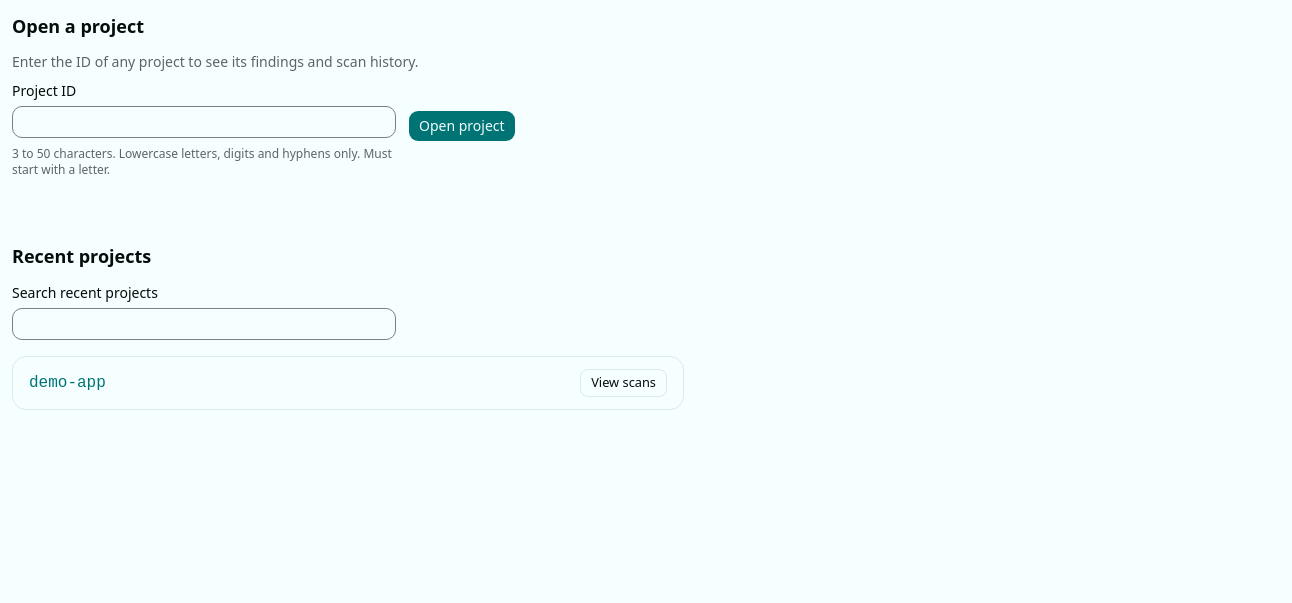
Test: ProjectsOverview: recent projects › says so when nothing matches, and clears the search in one click
Type "zzz" into the search field labelled "Search recent projects" at (204, 324), box [12,308,396,340]
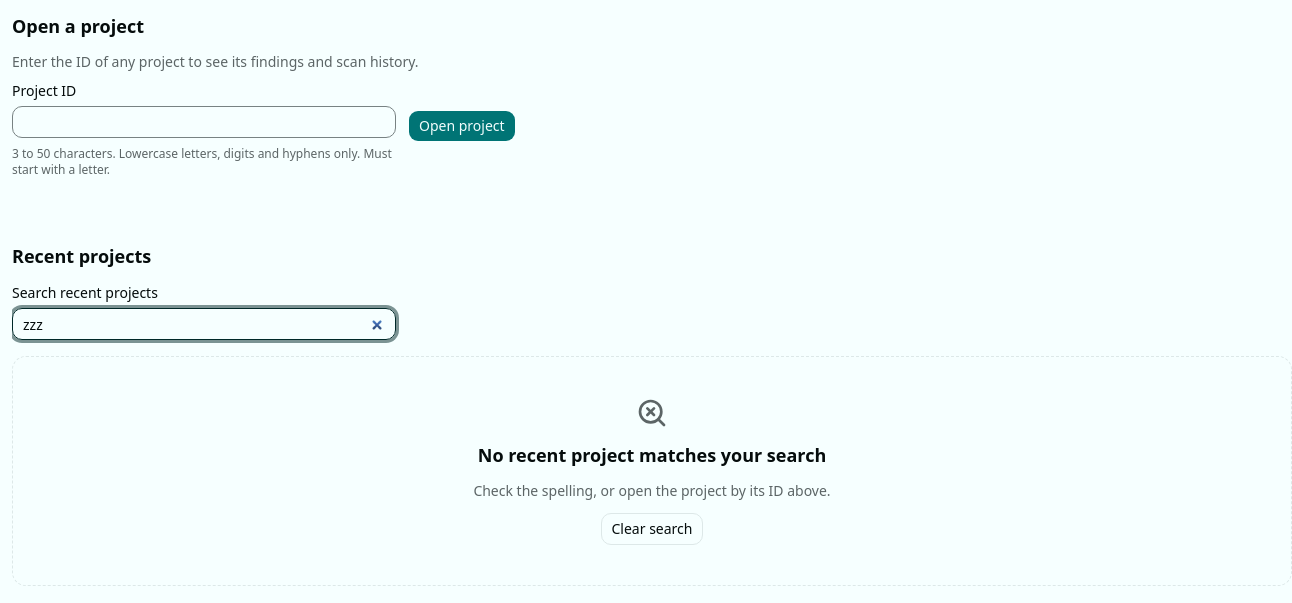
Now the heading "No recent project matches your search" is shown, box [478,441,826,469]
Click the button "Clear search" at (652, 529), box [600,513,704,545]
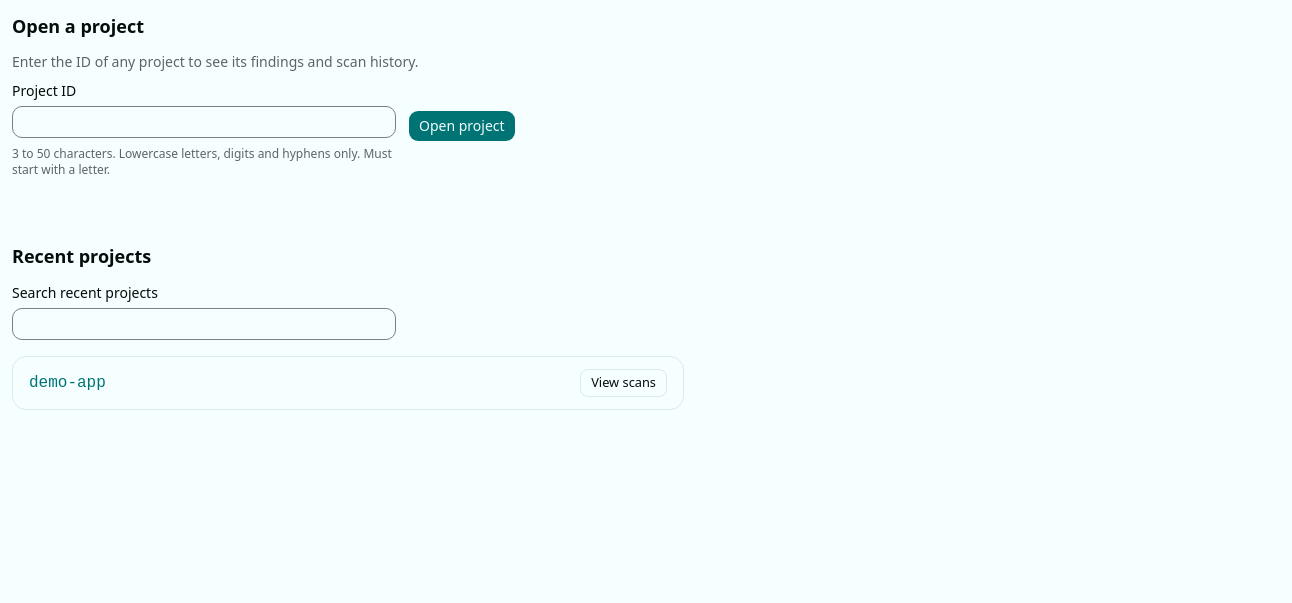
Now the link "demo-app" is shown, box [29,371,106,395]
Now the search field labelled "Search recent projects" is empty, box [12,308,396,340]
